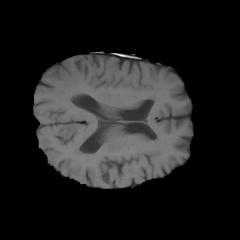glioma: (53, 64, 84, 105)
